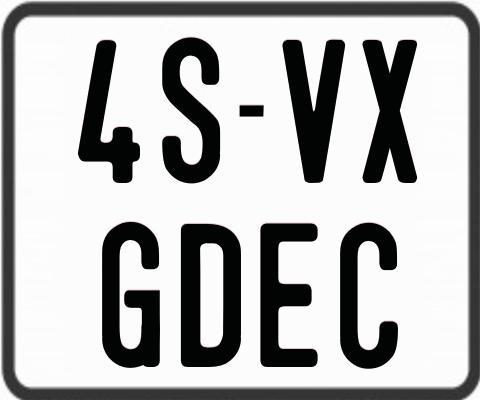4: (78, 40, 141, 185)
C: (337, 222, 400, 368)
D: (178, 224, 239, 370)
E: (257, 223, 321, 373)
G: (99, 219, 162, 370)
S: (160, 37, 222, 186)
V: (279, 38, 347, 182)
X: (362, 40, 418, 183)
